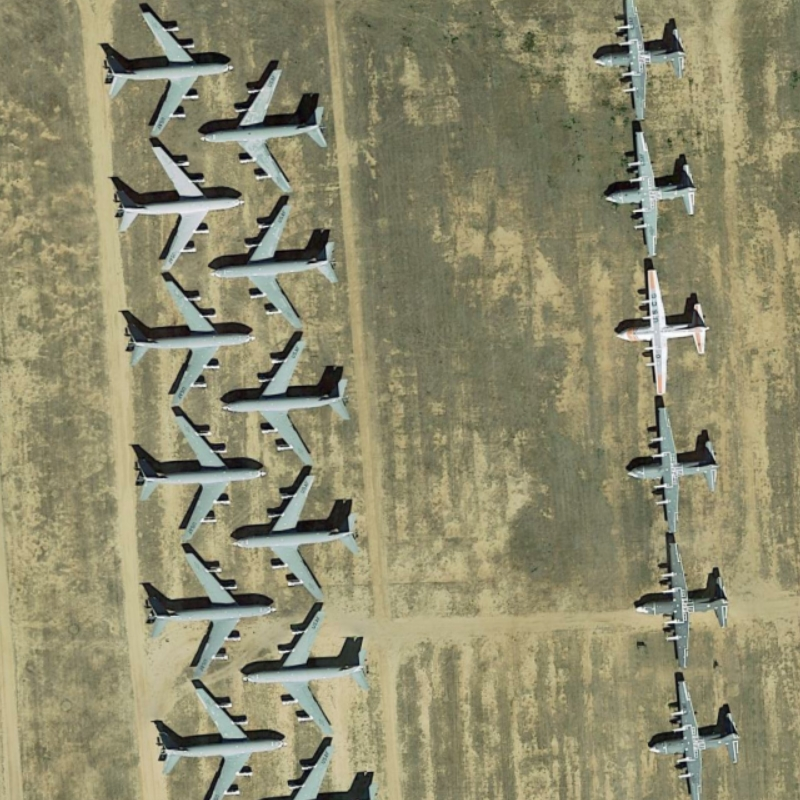A14: (227, 326, 379, 468), (238, 600, 392, 739), (226, 466, 381, 601), (209, 194, 355, 334), (98, 135, 247, 271), (137, 542, 281, 681), (202, 60, 344, 194), (98, 5, 236, 136), (130, 411, 270, 539), (127, 266, 254, 405), (148, 676, 287, 800)
A2: (610, 258, 731, 399), (620, 393, 737, 534), (628, 533, 746, 672), (598, 117, 709, 262), (577, 1, 698, 123), (646, 671, 747, 800)
